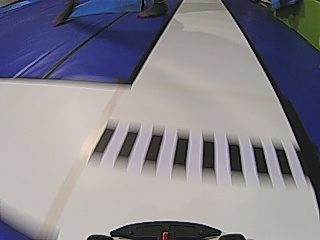CrossWalk: (89, 116, 311, 187)
